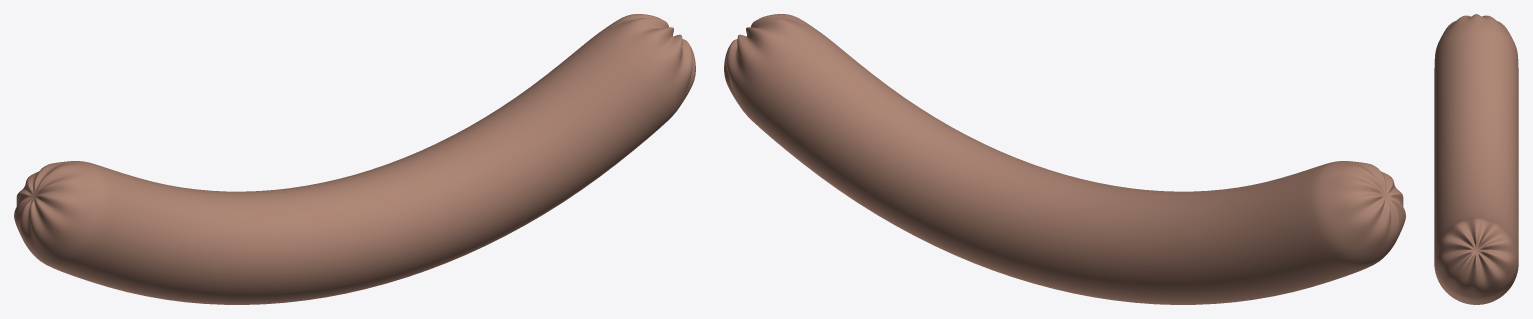
Rendered from Sausage.fbx.
3 renders of one model, left to right at view 1: azimuth 30°, elevation 25°; view 2: azimuth 150°, elevation 25°; view 3: azimuth 270°, elevation 25°, orthographic. The views are drawn at different scales.
Parts seen in each view (by area): view 1: pCylinder1; view 2: pCylinder1; view 3: pCylinder1.
Boxes of the visible parts, <box> form: pCylinder1: <box>14,14,695,304</box>; pCylinder1: <box>724,14,1405,304</box>; pCylinder1: <box>1434,14,1518,304</box>.
Bounding box in the file's own units: 8.97 × 2.52 × 1.32.
